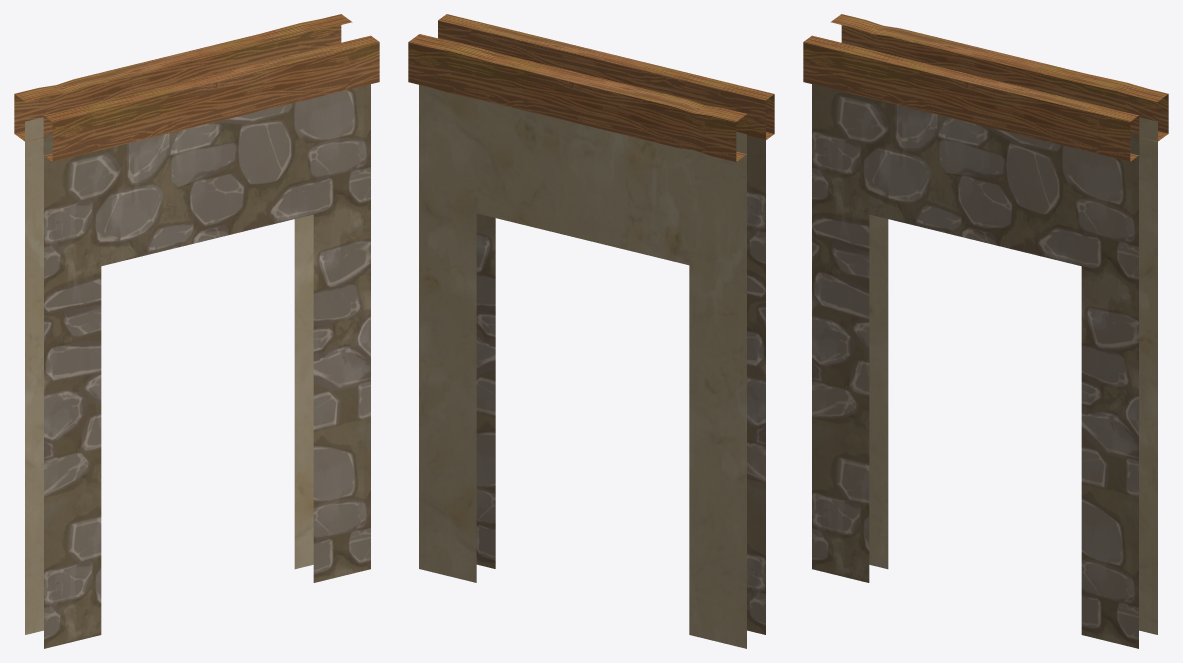
The model's file is Wall_UnevenBrick_Door_Flat.glb.
3 renders of one model, left to right at view 1: azimuth 30°, elevation 25°; view 2: azimuth 150°, elevation 25°; view 3: azimuth 330°, elevation 25°, orthographic.
Visible parts, largest first — view 1: Wall_UnevenBrick_Door_Flat; view 2: Wall_UnevenBrick_Door_Flat; view 3: Wall_UnevenBrick_Door_Flat.
Boxes of the visible parts, bbox=[...] form: Wall_UnevenBrick_Door_Flat: bbox=[14, 14, 379, 648]; Wall_UnevenBrick_Door_Flat: bbox=[408, 14, 774, 648]; Wall_UnevenBrick_Door_Flat: bbox=[803, 14, 1168, 648].
Size of the model in its own units: 2 by 3.12 by 0.4064.
3 materials, 3 textured.
